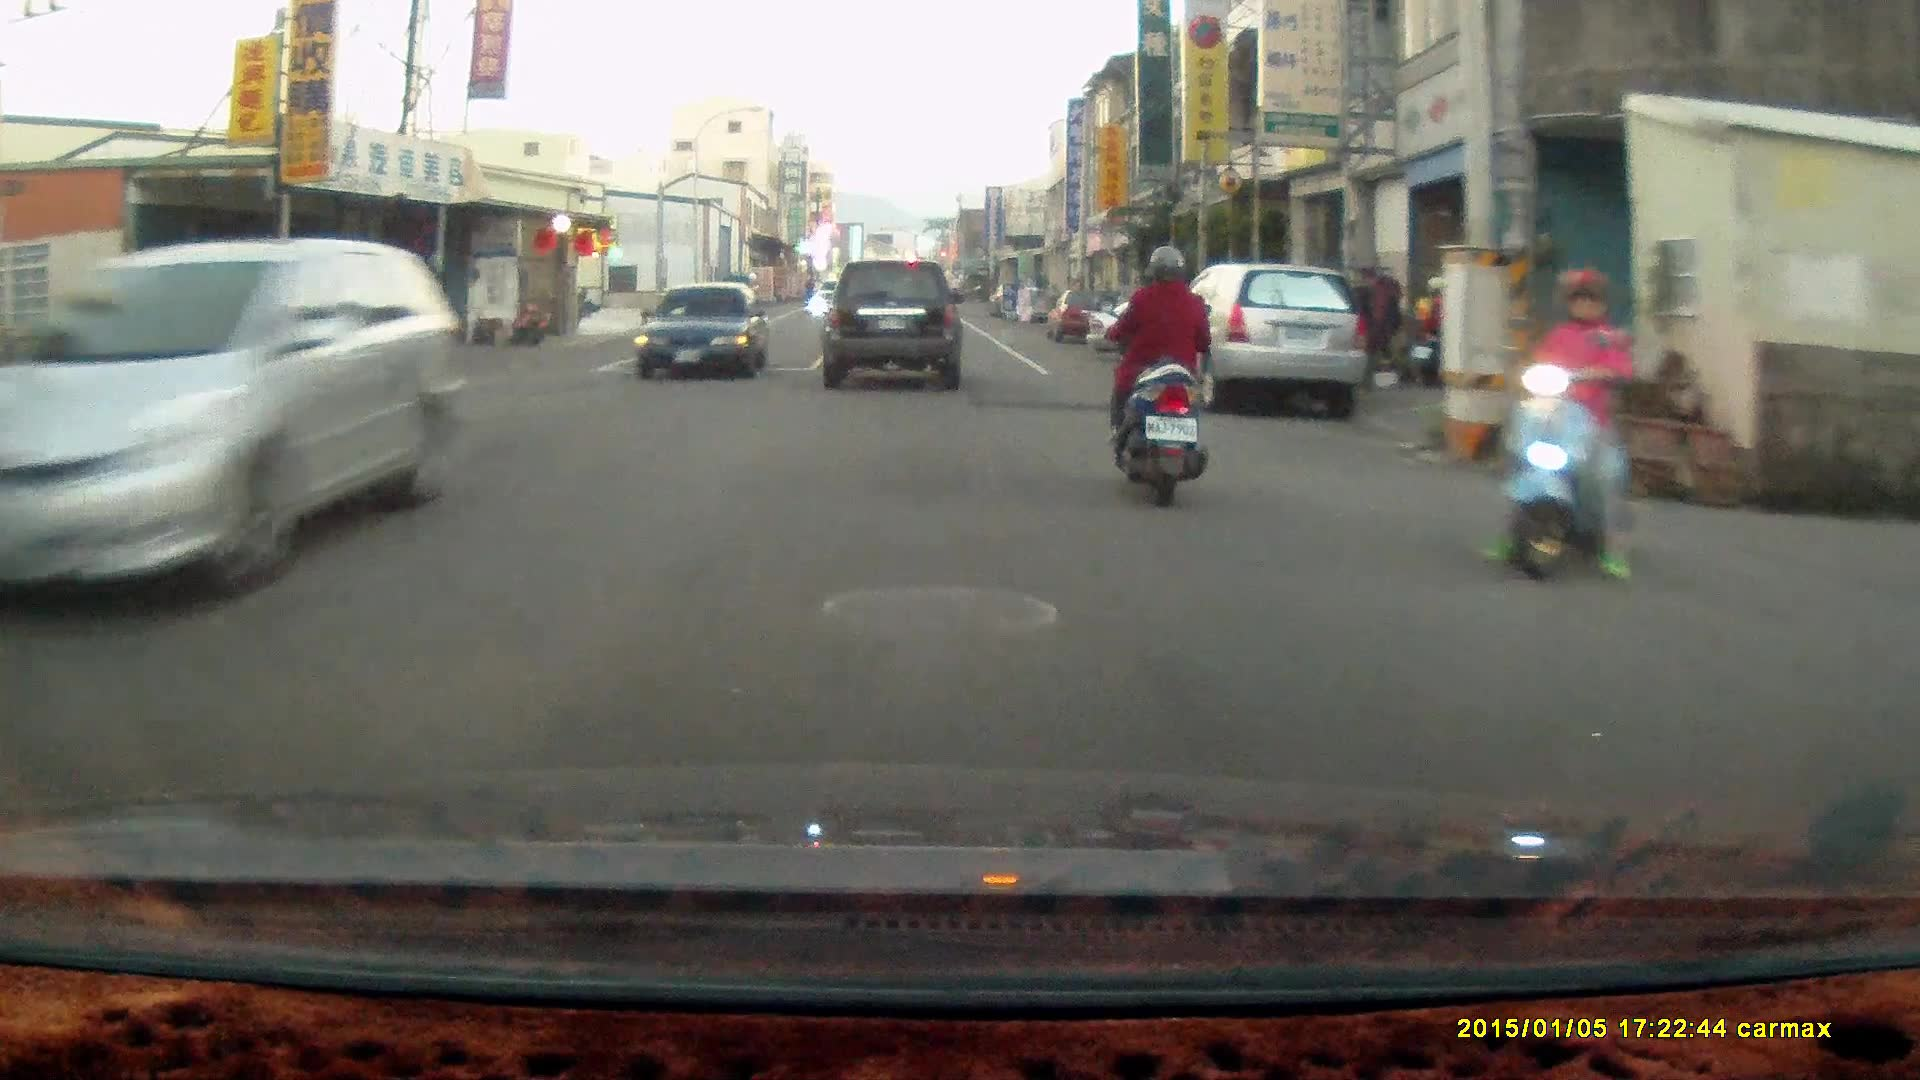rider: (1475, 268, 1640, 586), (1105, 240, 1210, 507)
vehicle: (1, 234, 482, 623), (1154, 260, 1368, 414), (822, 257, 965, 394), (640, 279, 772, 382)
